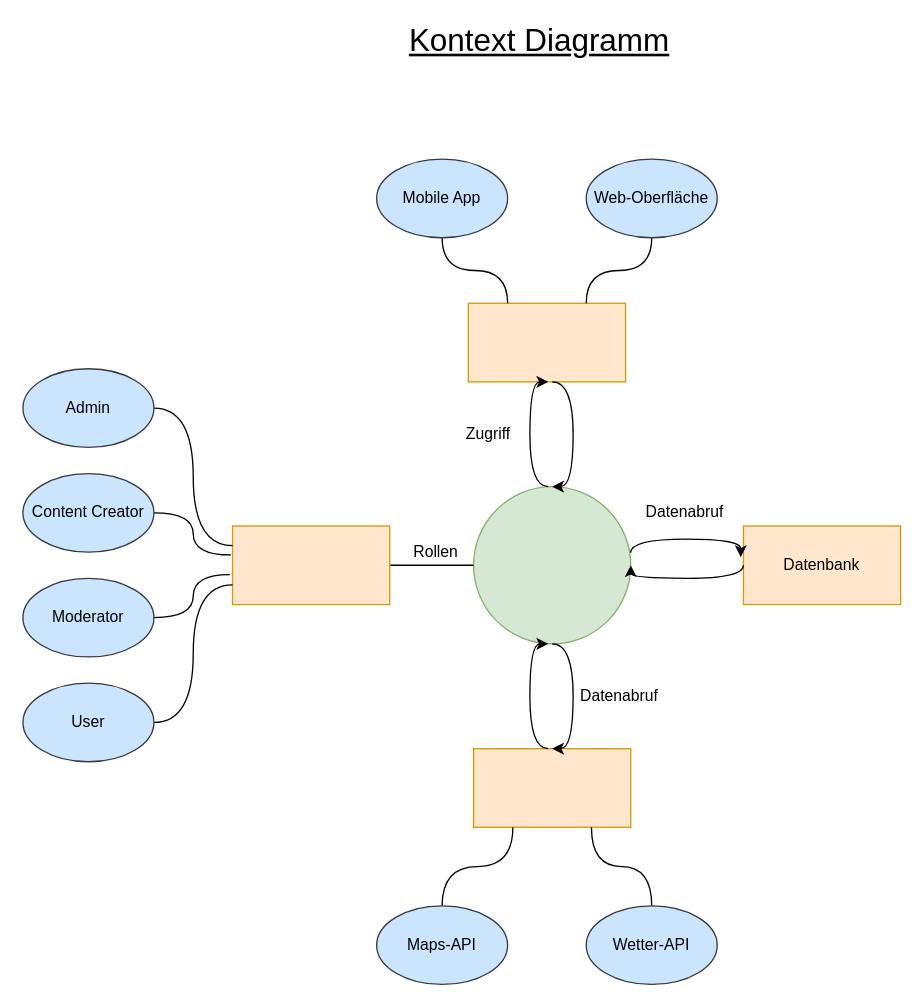
Image size: 924x1007. Some labels were removed from this diagram. Here are the shapes that lost their labels. From the top down, the centre of each, then its label:
At point 546,342: "User Interface".
At point 310,565: "Benutzer".
At point 551,564: "Digitaler Tourguide".
At point 551,787: "API's".
